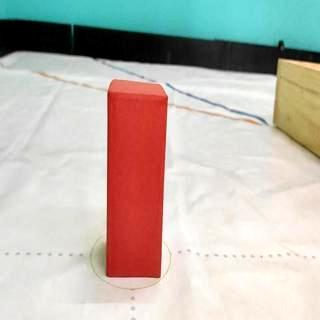redbox: (106, 79, 168, 278)
